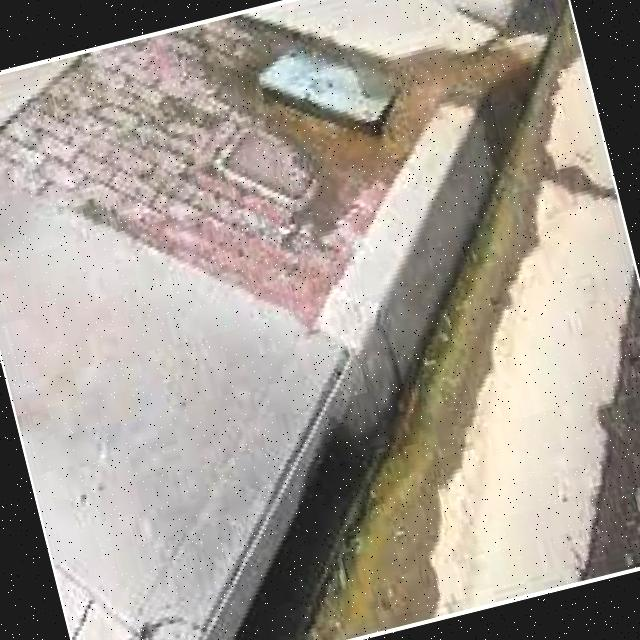curb: (261, 139, 524, 487), (90, 369, 367, 640), (389, 1, 605, 240)
